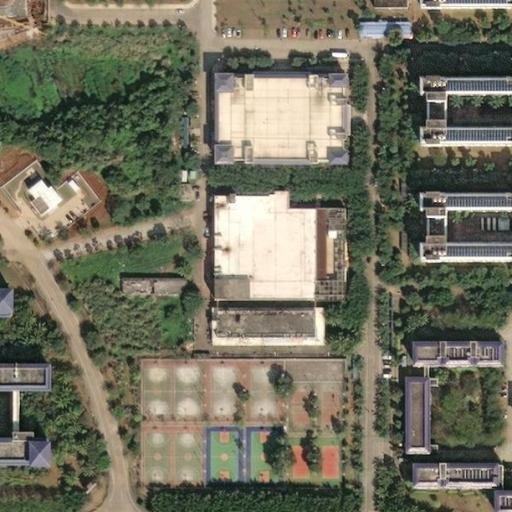building: (201, 186, 335, 296), (202, 59, 337, 162), (0, 364, 40, 469), (405, 125, 512, 154), (409, 236, 512, 265), (201, 307, 308, 333), (404, 342, 493, 367), (398, 469, 490, 493), (410, 192, 512, 213), (392, 368, 418, 448), (347, 21, 398, 37), (483, 492, 512, 512), (109, 276, 142, 293), (17, 191, 40, 215), (141, 278, 174, 294), (28, 184, 50, 206), (0, 285, 14, 317), (16, 177, 36, 196), (50, 179, 68, 197), (165, 181, 179, 197)
